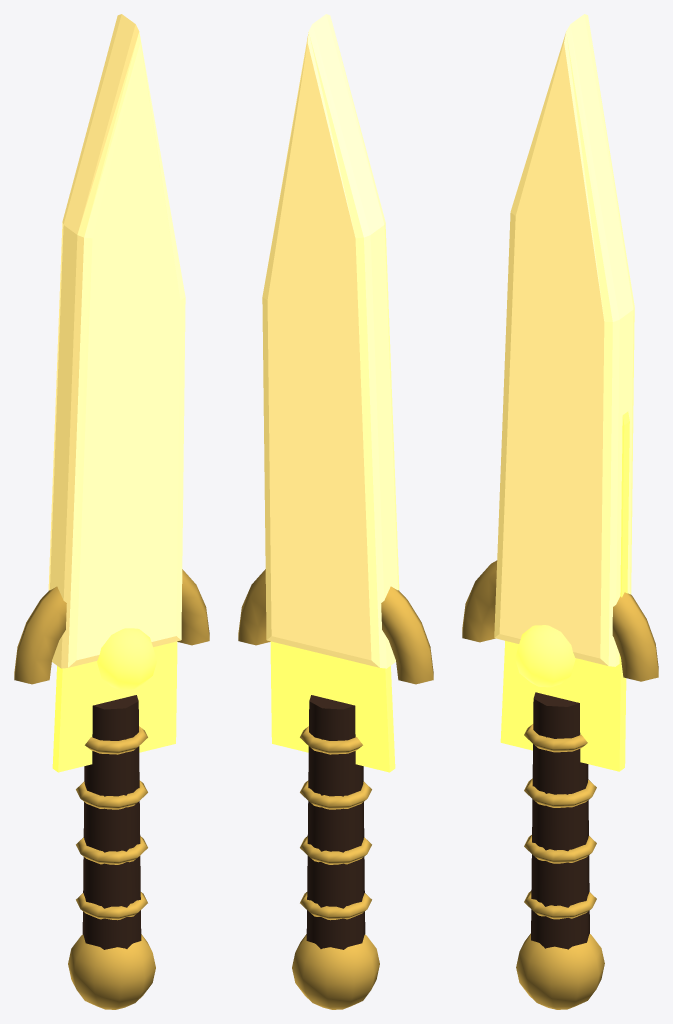
File: dagger_f0_491ac0f3.glb
3 views of the same model, side by side, from view 1: azimuth 30°, elevation 25°; view 2: azimuth 150°, elevation 25°; view 3: azimuth 330°, elevation 25° (orthographic).
Visible parts, largest first — view 1: m1_ow80_, m4_ow80_, m3_ow80_, m0_gm110_, m2_gm160_; view 2: m1_ow80_, m4_ow80_, m3_ow80_, m0_gm110_; view 3: m1_ow80_, m4_ow80_, m3_ow80_, m0_gm110_, m2_gm160_.
Part boxes in pixels (left/top/right/bottom): m1_ow80_: left=48, top=14, right=185, bottom=668; m4_ow80_: left=14, top=569, right=209, bottom=1009; m3_ow80_: left=82, top=695, right=141, bottom=949; m0_gm110_: left=52, top=641, right=177, bottom=772; m2_gm160_: left=96, top=628, right=156, bottom=689; m1_ow80_: left=262, top=14, right=399, bottom=668; m4_ow80_: left=238, top=569, right=433, bottom=1009; m3_ow80_: left=306, top=695, right=365, bottom=949; m0_gm110_: left=270, top=641, right=395, bottom=772; m1_ow80_: left=494, top=14, right=634, bottom=666; m4_ow80_: left=462, top=560, right=658, bottom=1009; m3_ow80_: left=531, top=692, right=589, bottom=949; m0_gm110_: left=500, top=411, right=629, bottom=771; m2_gm160_: left=515, top=625, right=575, bottom=687.
Bounding box in the file's own units: 0.244 × 1.17 × 0.1107.
